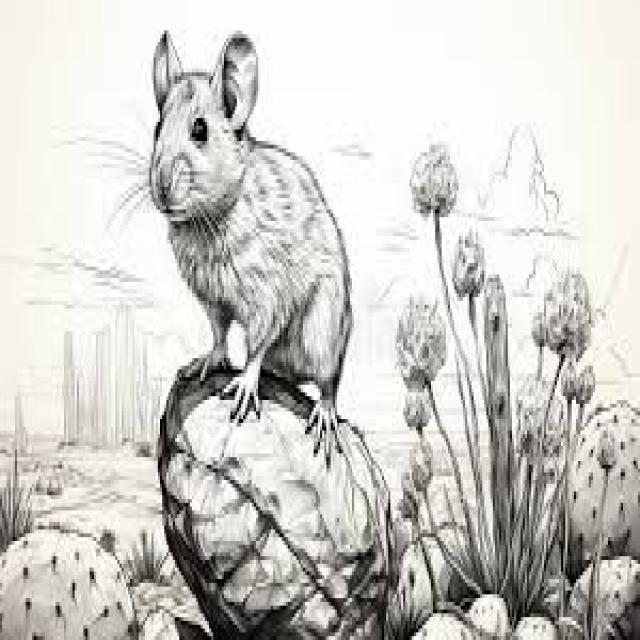rat: (143, 27, 352, 461)
